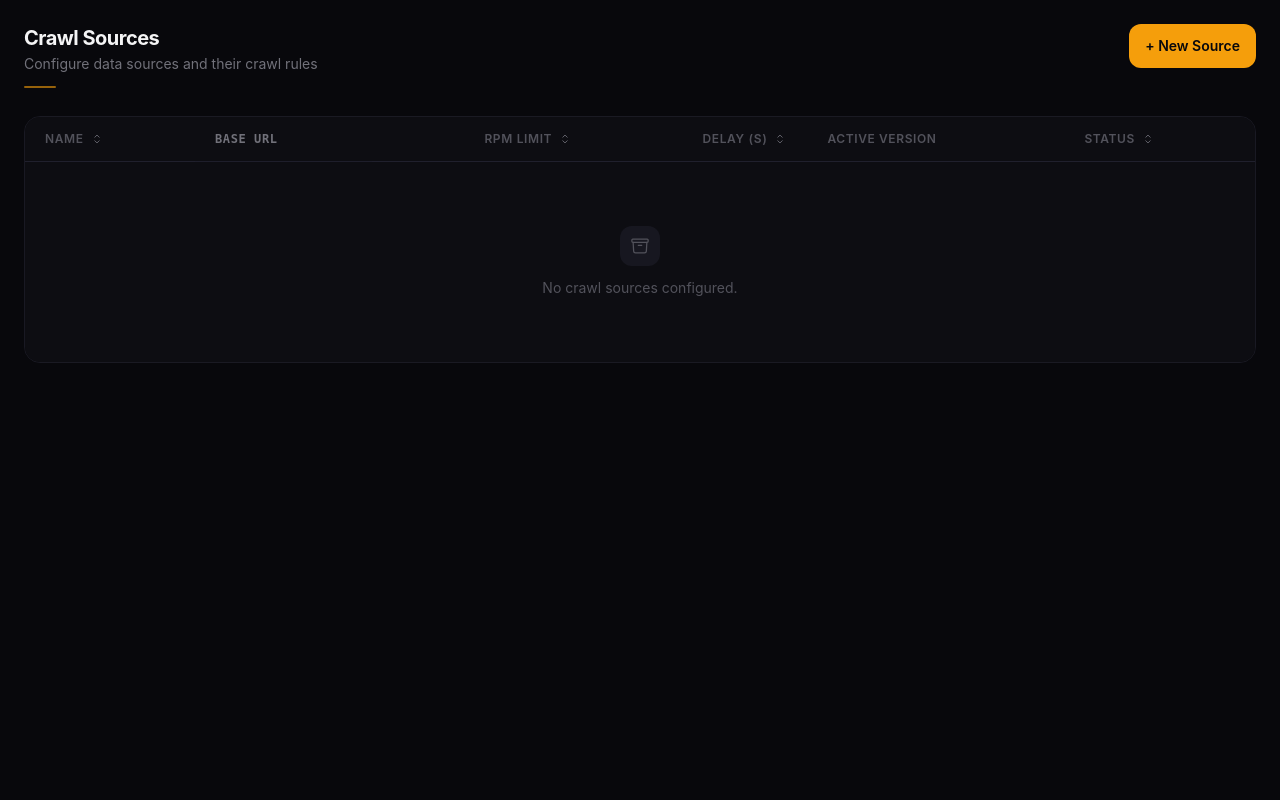
Test case: SourcesPage — modal › opens "New Crawl Source" modal on button click
Click the button "+ New Source".
click(1193, 46)  # box [1129,24,1256,68]
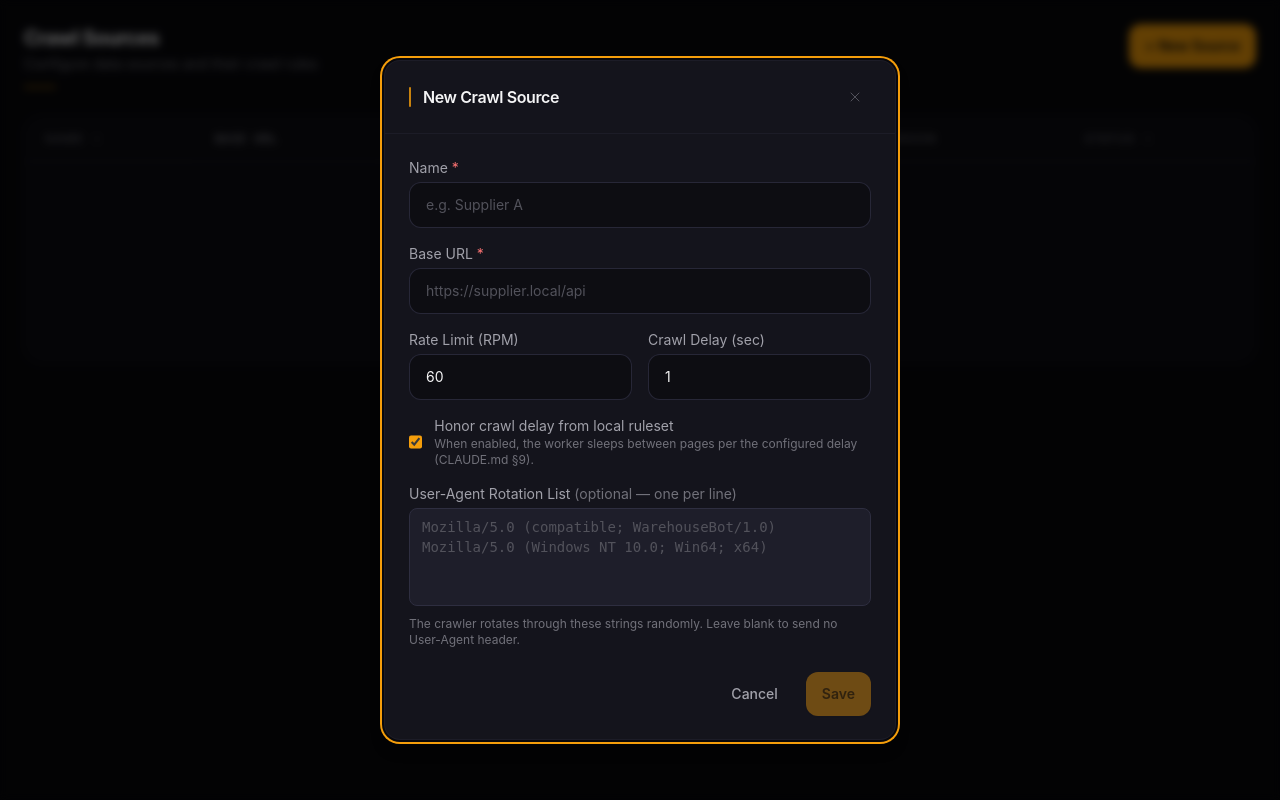
Expected: the heading "New Crawl Source" is shown, [423,85,559,109]
